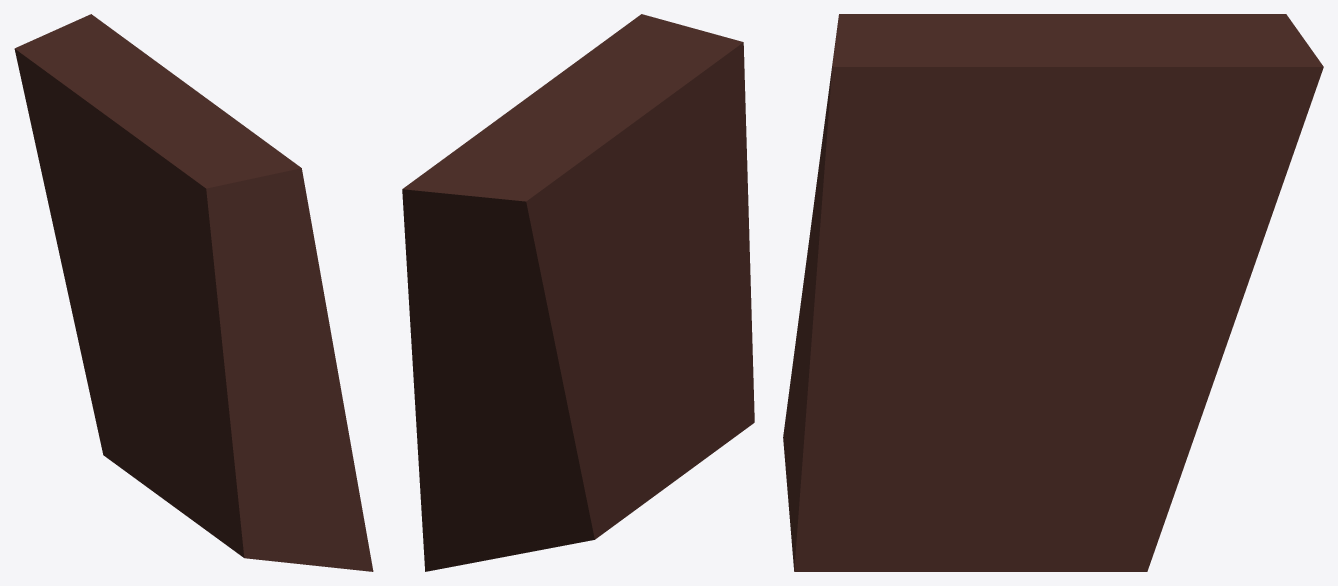
File: Muro Barco derecho (Modelo).fbx
3 views of the same model, side by side, from view 1: azimuth 30°, elevation 25°; view 2: azimuth 150°, elevation 25°; view 3: azimuth 270°, elevation 25° (orthographic). The views are drawn at different scales.
Parts seen in each view (by area): view 1: Objeto_Reparacion_trasera1; view 2: Objeto_Reparacion_trasera1; view 3: Objeto_Reparacion_trasera1.
Part boxes in pixels (x1,y1,x2,y2): Objeto_Reparacion_trasera1: (14,14,373,571); Objeto_Reparacion_trasera1: (402,14,754,571); Objeto_Reparacion_trasera1: (783,14,1323,571).
Bounding box in the file's own units: 0.2476 × 0.6468 × 0.6695.
